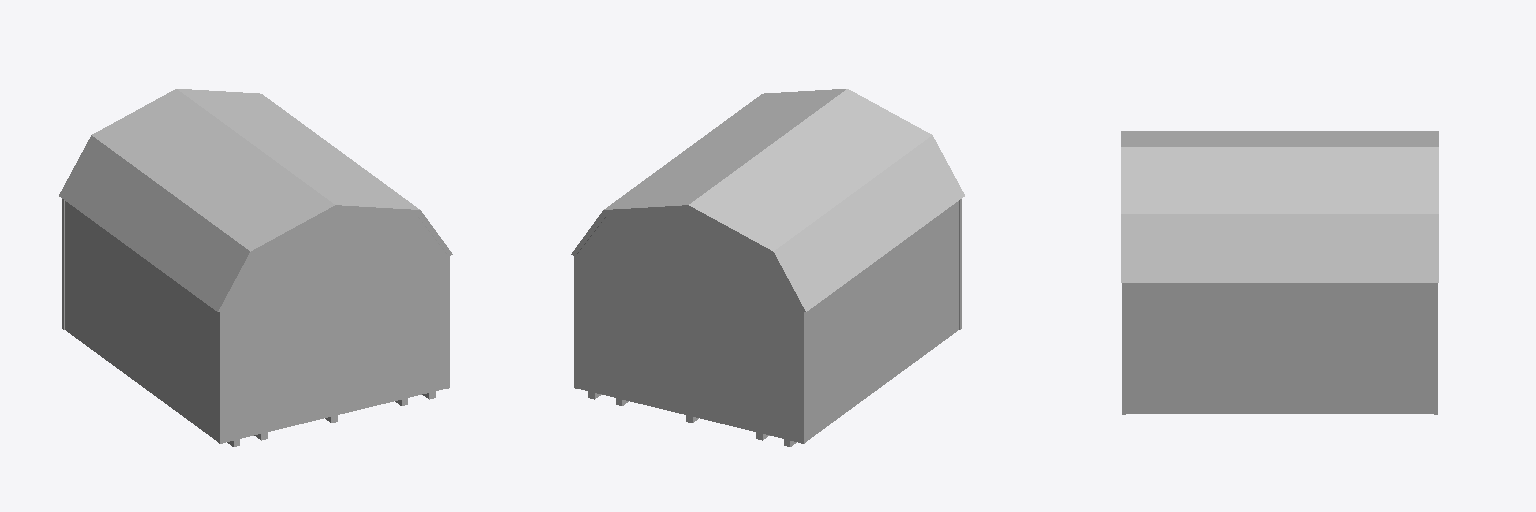
Rendered from Dutch Barn_12x14.obj.
The picture shows the model from 3 angles: view 1: azimuth 30°, elevation 25°; view 2: azimuth 150°, elevation 25°; view 3: azimuth 270°, elevation 25°; orthographic projection.
Parts seen in each view (by area): view 1: Dutch Barn_12x14.obj; view 2: Dutch Barn_12x14.obj; view 3: Dutch Barn_12x14.obj.
Boxes of the visible parts, x1=… form: Dutch Barn_12x14.obj: x1=59, y1=89, x2=452, y2=446; Dutch Barn_12x14.obj: x1=571, y1=89, x2=964, y2=446; Dutch Barn_12x14.obj: x1=1121, y1=131, x2=1438, y2=414.
Size of the model in its own units: 3.69 by 3.27 by 4.32.